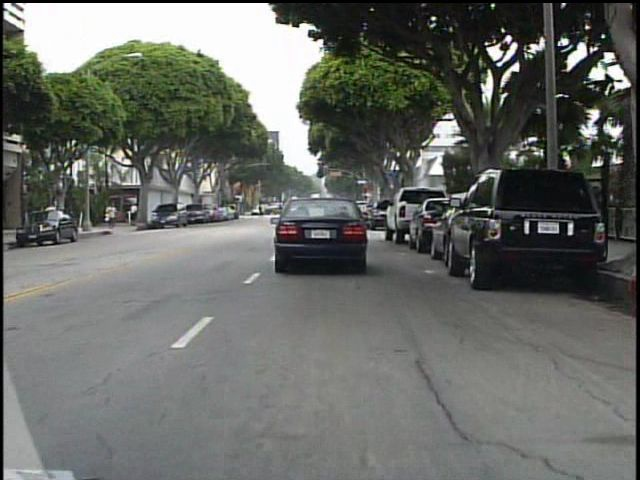person: (107, 200, 123, 235), (131, 200, 144, 229), (258, 200, 269, 221)
